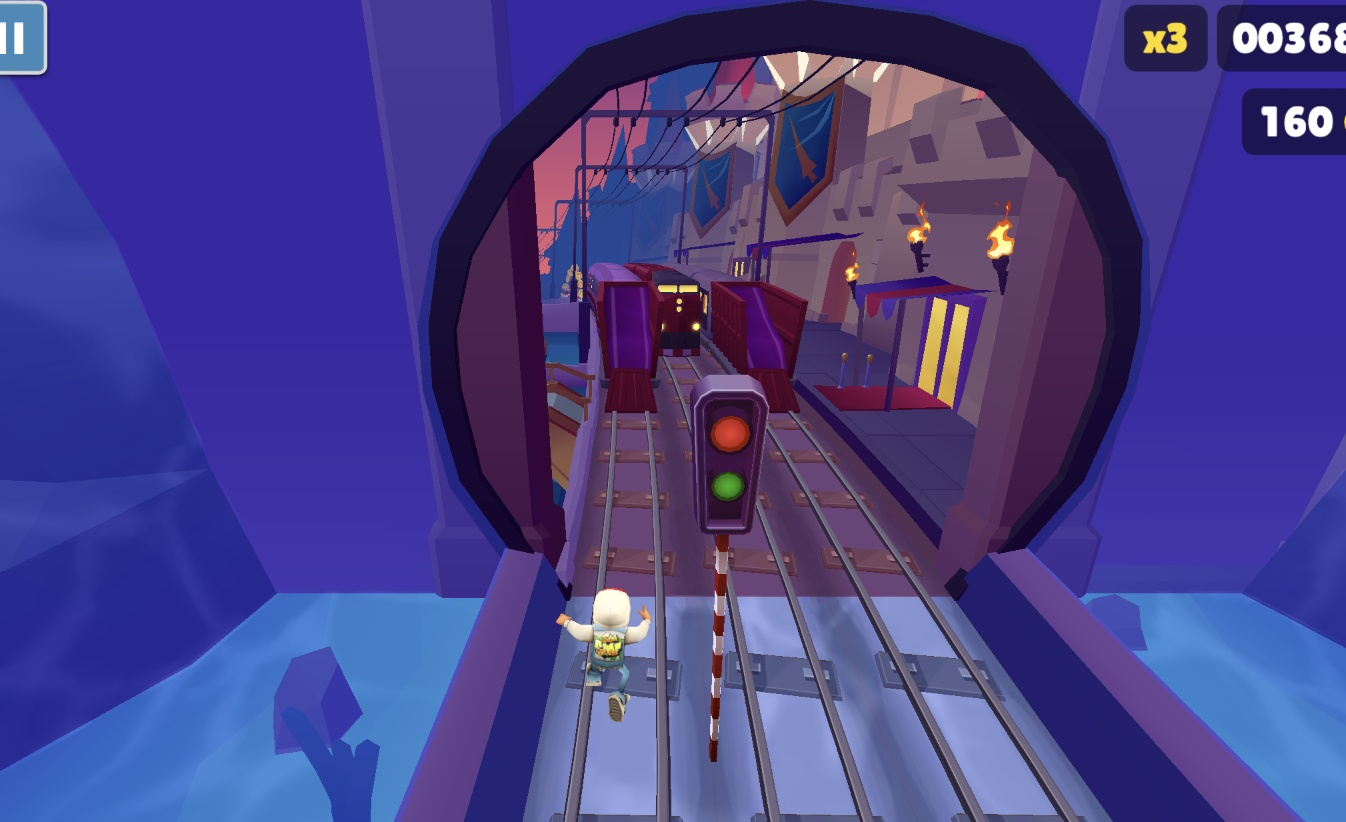train: (709, 279, 812, 414), (587, 262, 661, 416), (624, 263, 702, 359), (690, 268, 742, 319)
